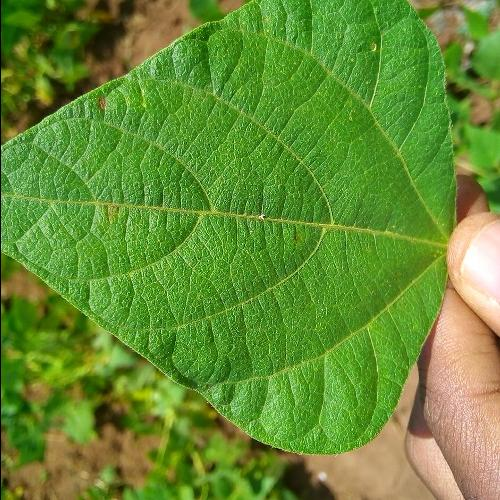hawar: (90, 166, 170, 226), (249, 174, 296, 228), (76, 93, 134, 118), (347, 32, 389, 56)
